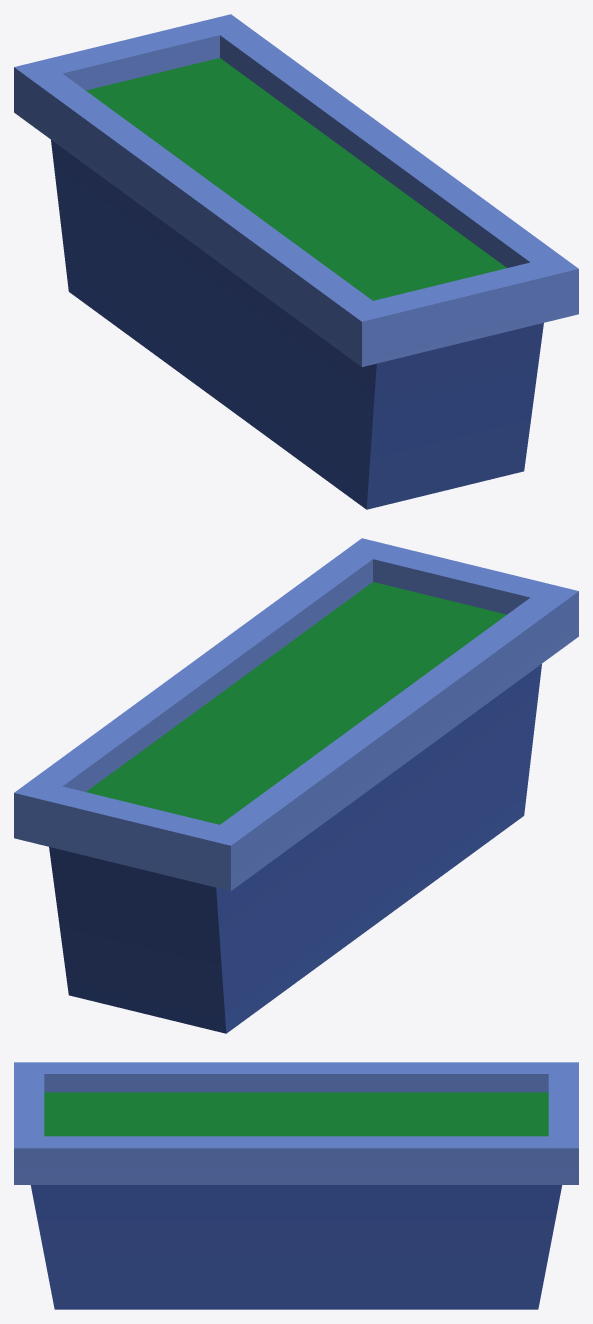
The model's file is FlowerPot_5_2_E.fbx.
3 renders of one model, top to bottom at view 1: azimuth 30°, elevation 25°; view 2: azimuth 150°, elevation 25°; view 3: azimuth 270°, elevation 25°, orthographic. The views are drawn at different scales.
Parts seen in each view (by area): view 1: FlowerPot_5_2_E; view 2: FlowerPot_5_2_E; view 3: FlowerPot_5_2_E.
Part boxes in pixels (x1,y1,x2,y2): FlowerPot_5_2_E: (14, 14, 578, 509); FlowerPot_5_2_E: (14, 538, 578, 1033); FlowerPot_5_2_E: (14, 1062, 578, 1309).
Size of the model in its own units: 32.46 by 30.52 by 90.14.
